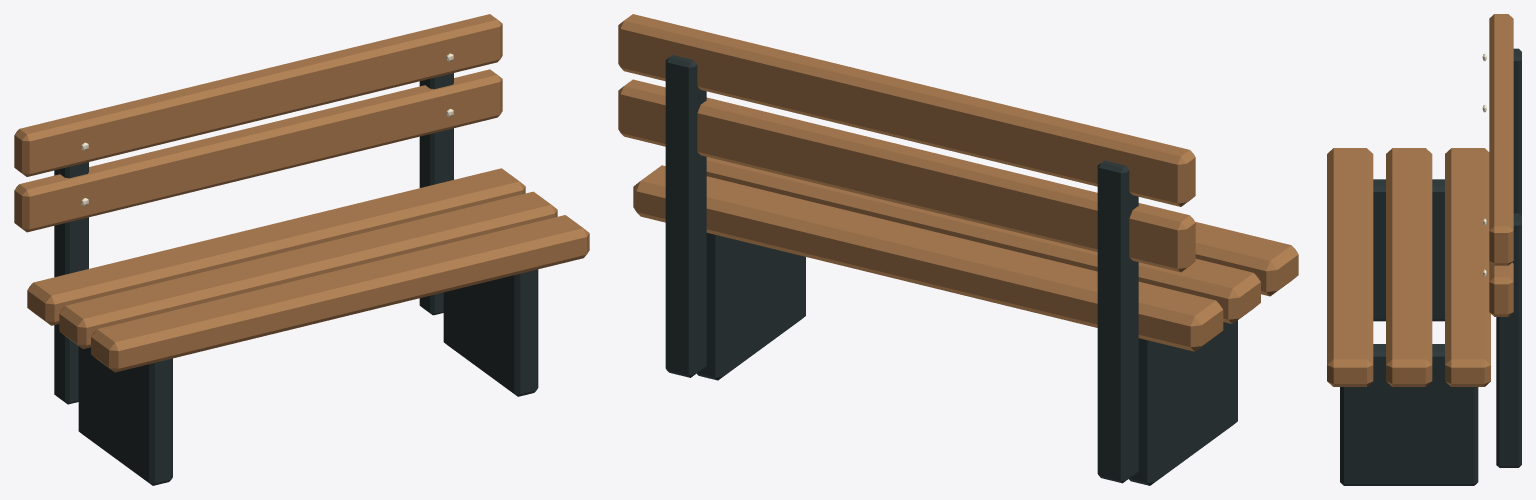
The model's file is bench-v1.glb.
The picture shows the model from 3 angles, left to right: view 1: azimuth 30°, elevation 25°; view 2: azimuth 150°, elevation 25°; view 3: azimuth 270°, elevation 25°; orthographic projection. The views are drawn at different scales.
Visible parts, largest first — view 1: GardenBench_mesh; view 2: GardenBench_mesh; view 3: GardenBench_mesh.
Boxes of the visible parts, x1,y1,x2,y2 form: GardenBench_mesh: [14, 14, 589, 485]; GardenBench_mesh: [618, 14, 1298, 485]; GardenBench_mesh: [1327, 14, 1521, 485].
Size of the model in its own units: 2 by 1.21 by 0.76.
